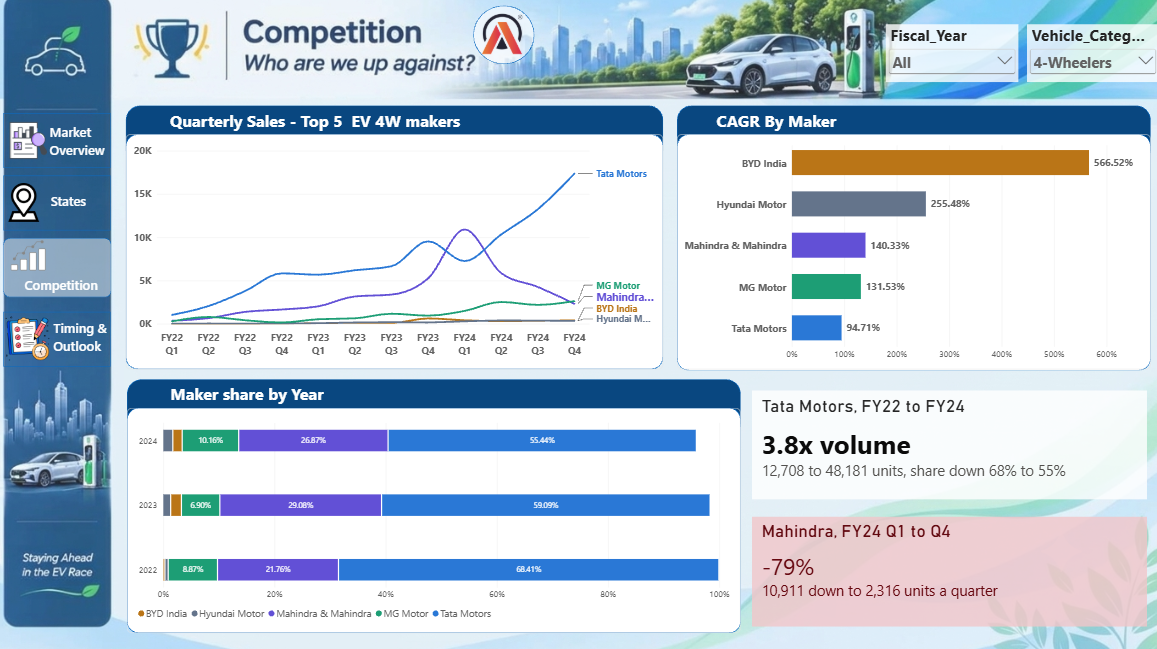

What the dashboard file says about the page in this screenshot:
{"tool":"powerbi","page":{"name":"Competition","canvas":[1920,1080],"ordinal":7},"visuals":[{"type":"shape","box":[213.7,627.8,1010.6,96.7],"z":0},{"type":"shape","box":[1119.7,177,780.1,96.7],"z":1000},{"type":"shape","box":[212,177,885.1,96.7],"z":2000},{"type":"shape","box":[212,224.4,885.1,387],"z":3000},{"type":"lineChart","fields":{"Category":["dim_date.Fiscal Quarter"],"Series":["sales_by_makers.maker"],"Y":["key_measures.EV Sales (Makers)"]},"box":[212,224.4,885.1,387],"z":4000},{"type":"shape","box":[1119.7,224.4,780.1,389],"z":5000},{"type":"barChart","fields":{"Category":["sales_by_makers.maker"],"Y":["key_measures.EV CAGR % (Makers)"]},"box":[1119.7,224.4,780.1,387],"z":6000},{"type":"slicer","fields":{"Values":["dim_date.fiscal_year"]},"box":[1463.5,44.1,218.6,95.1],"z":7000},{"type":"slicer","fields":{"Values":["sales_by_makers.vehicle_category"]},"box":[1696.3,44.1,218,95],"z":8000},{"type":"shape","box":[213.7,675.1,1010.6,370.5],"z":9000},{"type":"barChart","fields":{"Category":["dim_date.fiscal_year"],"Series":["sales_by_makers.maker"],"Y":["key_measures.Maker Share %"]},"box":[214.1,675.1,1010.6,370.5],"z":10000},{"type":"textbox","box":[247,183.2,553.7,47.3],"z":11000},{"type":"textbox","box":[1140.3,183.2,286.1,47.3],"z":12000},{"type":"textbox","box":[207.9,634,407.5,47.3],"z":13000},{"type":"textbox","title":"Tata Motors, FY22 to FY24","box":[1242.8,647.1,650.4,179.1],"z":14000},{"type":"textbox","title":"Mahindra, FY24 Q1 to Q4","box":[1242.8,855,650.4,181.1],"z":15000},{"type":"textbox","box":[87.4,206,121.4,78.2],"z":16000},{"type":"image","box":[11.2,203.9,82.3,61.7],"z":17000},{"type":"textbox","box":[89.5,319.3,92.6,55.6],"z":18000},{"type":"image","box":[0,304.6,88.5,63.8],"z":19000},{"type":"textbox","box":[44.3,456.9,131.7,37],"z":20000},{"type":"image","box":[21.6,391,57.6,65.9],"z":21000},{"type":"textbox","box":[93.6,529.1,107,63.8],"z":22000},{"type":"image","box":[9.2,522.9,84.4,76.2],"z":23000},{"type":"shape","box":[10.3,395.2,178,97.9],"z":24000},{"type":"group","id":"g1","title":"Group 1","box":[782.2,12.3,102.9,96.7],"z":25000},{"type":"shape","box":[784.3,12.3,100.9,96.7],"z":26000,"group":"g1"},{"type":"shape","box":[10.3,189.4,177,90.6],"z":26000},{"type":"image","box":[782.2,24.6,100.9,67.9],"z":27000,"group":"g1"},{"type":"shape","box":[10.3,292.3,177,90.6],"z":27000},{"type":"shape","box":[10.3,516.6,177,90.6],"z":28000}]}

Visuals, with their boxes on the page's 1920x1080 design canvas (x1, y1, x2, y2). These are canvas units, not pixel positions in the 1157x649 screenshot, which may show the page scaled, cropped or inside an application window:
shape: bbox=[214, 628, 1224, 724]
shape: bbox=[1120, 177, 1900, 274]
shape: bbox=[212, 177, 1097, 274]
shape: bbox=[212, 224, 1097, 611]
lineChart - dim_date.Fiscal Quarter x sales_by_makers.maker: bbox=[212, 224, 1097, 611]
shape: bbox=[1120, 224, 1900, 613]
barChart - sales_by_makers.maker x key_measures.EV CAGR % (Makers): bbox=[1120, 224, 1900, 611]
slicer - dim_date.fiscal_year: bbox=[1464, 44, 1682, 139]
slicer - sales_by_makers.vehicle_category: bbox=[1696, 44, 1914, 139]
shape: bbox=[214, 675, 1224, 1046]
barChart - dim_date.fiscal_year x sales_by_makers.maker: bbox=[214, 675, 1225, 1046]
textbox: bbox=[247, 183, 801, 230]
textbox: bbox=[1140, 183, 1426, 230]
textbox: bbox=[208, 634, 615, 681]
"Tata Motors, FY22 to FY24" textbox: bbox=[1243, 647, 1893, 826]
"Mahindra, FY24 Q1 to Q4" textbox: bbox=[1243, 855, 1893, 1036]
textbox: bbox=[87, 206, 209, 284]
image: bbox=[11, 204, 94, 266]
textbox: bbox=[90, 319, 182, 375]
image: bbox=[0, 305, 88, 368]
textbox: bbox=[44, 457, 176, 494]
image: bbox=[22, 391, 79, 457]
textbox: bbox=[94, 529, 201, 593]
image: bbox=[9, 523, 94, 599]
shape: bbox=[10, 395, 188, 493]
"Group 1" group: bbox=[782, 12, 885, 109]
shape: bbox=[784, 12, 885, 109]
shape: bbox=[10, 189, 187, 280]
image: bbox=[782, 25, 883, 92]
shape: bbox=[10, 292, 187, 383]
shape: bbox=[10, 517, 187, 607]
